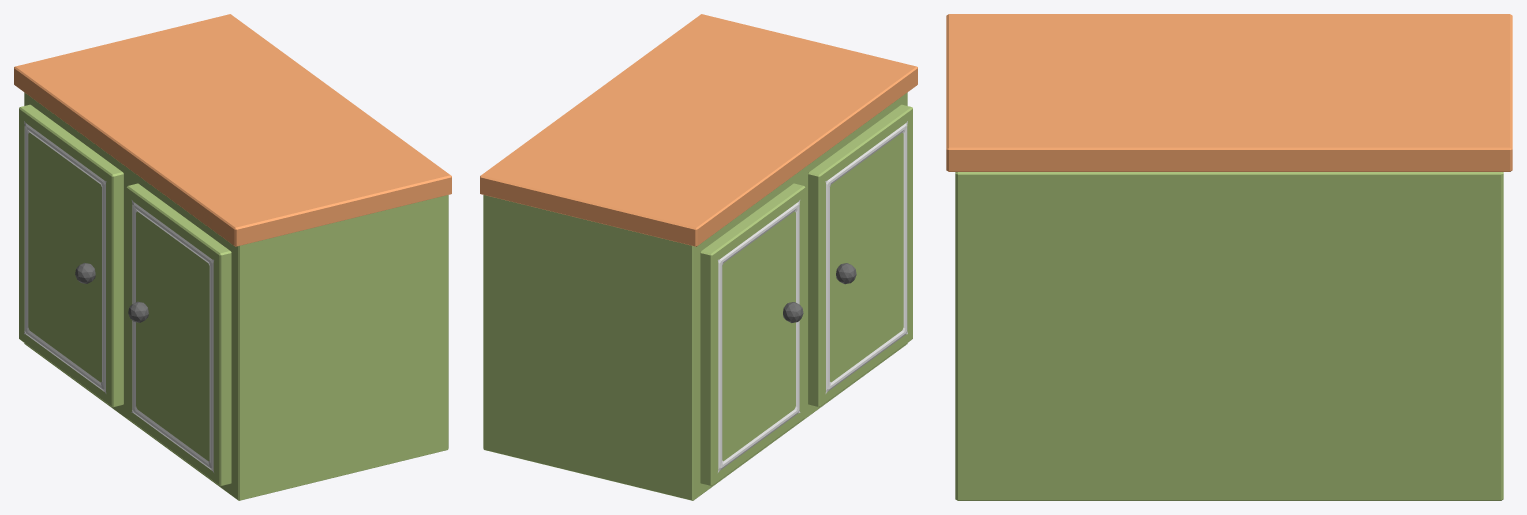
The model's file is kitchenset1.obj.
The picture shows the model from 3 angles, left to right: view 1: azimuth 30°, elevation 25°; view 2: azimuth 150°, elevation 25°; view 3: azimuth 270°, elevation 25°; orthographic projection. The views are drawn at different scales.
Visible parts, largest first — view 1: Counter_Icosphere; view 2: Counter_Icosphere; view 3: Counter_Icosphere.
Part boxes in pixels (box(x1,y1,x2,y2)): Counter_Icosphere: box(14, 14, 451, 500); Counter_Icosphere: box(480, 14, 917, 500); Counter_Icosphere: box(946, 14, 1512, 500).
Size of the model in its own units: 1.93 by 2.15 by 3.12.
